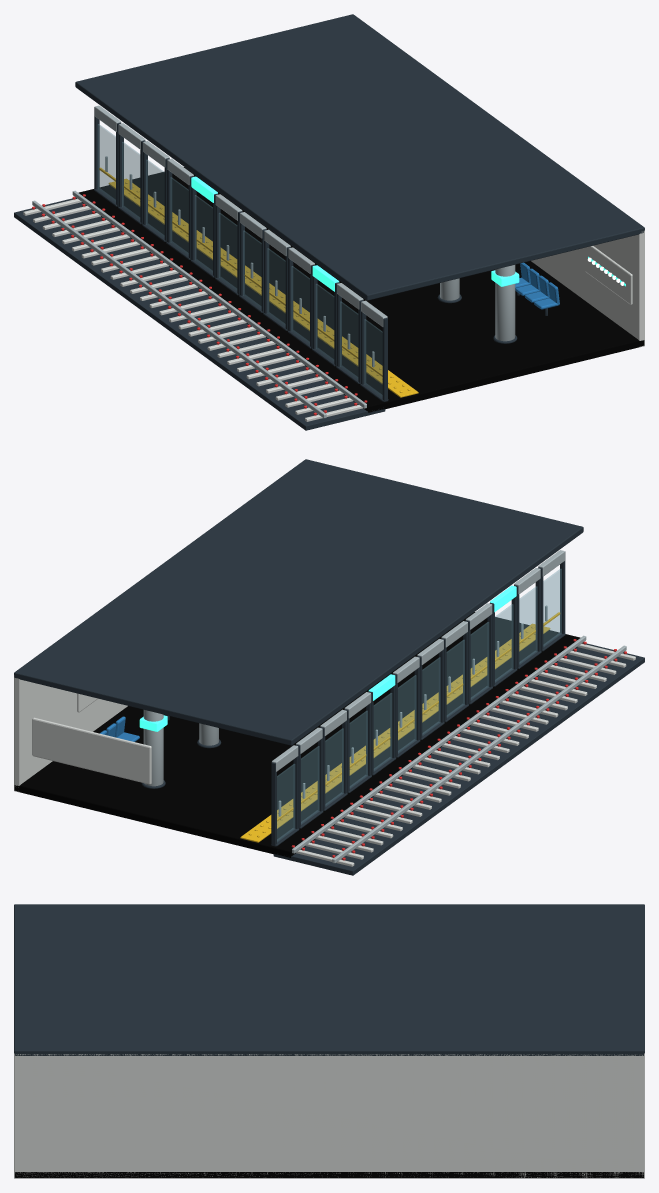
The model's file is seoul_subway_platform.glb.
The picture shows the model from 3 angles, top to bottom: view 1: azimuth 30°, elevation 25°; view 2: azimuth 150°, elevation 25°; view 3: azimuth 270°, elevation 25°; orthographic projection. The views are drawn at different scales.
Visible parts, largest first — view 1: seoul_subway_platform_Batch_01_Subway_BlackSteel, Platform_Slab, seoul_subway_platform_Batch_06_Subway_ScreenDoorGlass, seoul_subway_platform_Batch_08_Subway_WarmTile, Track_Bed, seoul_subway_platform_Batch_02_Subway_BrushedSteel, Tactile_Base, RouteMap_1_Panel, Platform_Pillar_1, seoul_subway_platform_Batch_04_Subway_EmergencyRed, ScreenDoorBay_1_Glass, seoul_subway_platform_Batch_07_Subway_TactileYellow (+2 smaller); view 2: seoul_subway_platform_Batch_01_Subway_BlackSteel, Platform_Slab, seoul_subway_platform_Batch_08_Subway_WarmTile, seoul_subway_platform_Batch_06_Subway_ScreenDoorGlass, Track_Bed, seoul_subway_platform_Batch_02_Subway_BrushedSteel, Tactile_Base, seoul_subway_platform_Batch_04_Subway_EmergencyRed, ScreenDoorBay_1_Glass, seoul_subway_platform_Batch_07_Subway_TactileYellow, seoul_subway_platform_Batch_05_Subway_LineGreen; view 3: seoul_subway_platform_Batch_01_Subway_BlackSteel, seoul_subway_platform_Batch_08_Subway_WarmTile, Platform_Slab.
Part boxes in pixels (bbox=[...]): seoul_subway_platform_Batch_01_Subway_BlackSteel: bbox=[75, 14, 644, 401]; Platform_Slab: bbox=[75, 167, 644, 412]; seoul_subway_platform_Batch_06_Subway_ScreenDoorGlass: bbox=[98, 124, 357, 379]; seoul_subway_platform_Batch_08_Subway_WarmTile: bbox=[23, 198, 644, 421]; Track_Bed: bbox=[14, 198, 385, 430]; seoul_subway_platform_Batch_02_Subway_BrushedSteel: bbox=[32, 105, 459, 418]; Tactile_Base: bbox=[108, 178, 418, 397]; RouteMap_1_Panel: bbox=[585, 246, 632, 304]; Platform_Pillar_1: bbox=[495, 265, 515, 341]; seoul_subway_platform_Batch_04_Subway_EmergencyRed: bbox=[32, 194, 367, 415]; ScreenDoorBay_1_Glass: bbox=[364, 319, 382, 397]; seoul_subway_platform_Batch_07_Subway_TactileYellow: bbox=[99, 167, 410, 392]; seoul_subway_platform_Batch_01_Subway_BlackSteel: bbox=[14, 459, 583, 846]; Platform_Slab: bbox=[14, 612, 583, 857]; seoul_subway_platform_Batch_08_Subway_WarmTile: bbox=[14, 643, 635, 866]; seoul_subway_platform_Batch_06_Subway_ScreenDoorGlass: bbox=[277, 586, 537, 841]; Track_Bed: bbox=[273, 643, 644, 875]; seoul_subway_platform_Batch_02_Subway_BrushedSteel: bbox=[143, 550, 626, 863]; Tactile_Base: bbox=[240, 623, 550, 842]; seoul_subway_platform_Batch_04_Subway_EmergencyRed: bbox=[291, 639, 626, 860]; ScreenDoorBay_1_Glass: bbox=[543, 569, 561, 646]; seoul_subway_platform_Batch_07_Subway_TactileYellow: bbox=[248, 612, 560, 837]; seoul_subway_platform_Batch_05_Subway_LineGreen: bbox=[139, 585, 516, 731]; seoul_subway_platform_Batch_01_Subway_BlackSteel: bbox=[14, 904, 644, 1055]; seoul_subway_platform_Batch_08_Subway_WarmTile: bbox=[14, 1053, 644, 1178]; Platform_Slab: bbox=[15, 1172, 643, 1177].
Size of the model in its own units: 13.43 by 4.56 by 20.
Materials: 10 (1 with a texture image).
